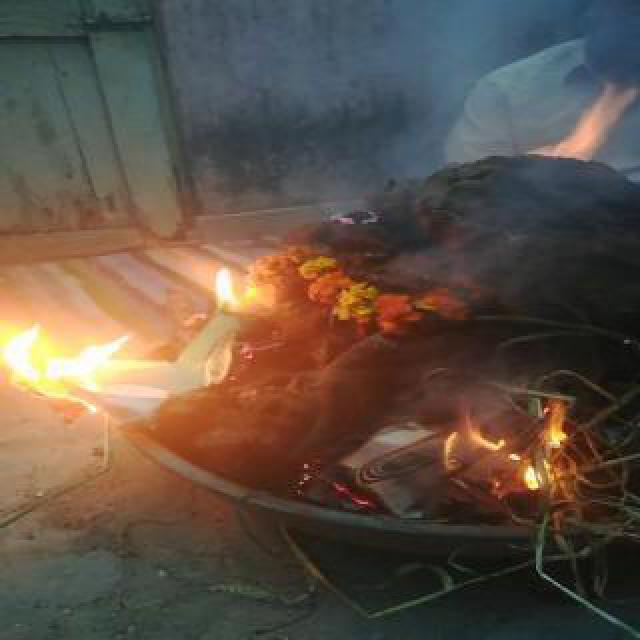Fire: (4, 318, 164, 412), (432, 402, 580, 494), (542, 84, 630, 162), (208, 256, 254, 318)
